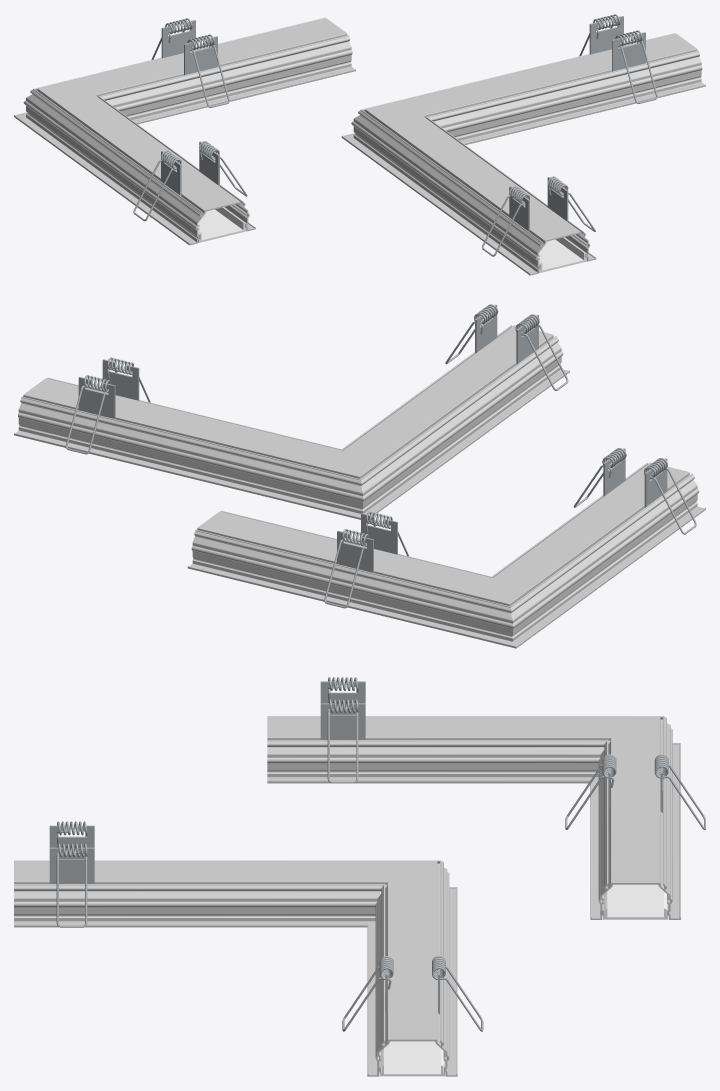
The model's file is Fit40StandardEmbutido-curva-direita-esquerda.glb.
3 views of the same model, one above another, from view 1: azimuth 30°, elevation 25°; view 2: azimuth 150°, elevation 25°; view 3: azimuth 270°, elevation 25° (orthographic). The views are drawn at different scales.
Visible parts, largest first — view 1: 3DGeom-21, 3DGeom-20, 3DGeom-2, 3DGeom-1, 3DGeom-13 (×4), 3DGeom-5 (×4), 3DGeom-14 (×3), 3DGeom-6 (×3), 3DGeom-17, 3DGeom-3; view 2: 3DGeom-21, 3DGeom-2, 3DGeom-20, 3DGeom-1, 3DGeom-13 (×4), 3DGeom-5 (×4), 3DGeom-6 (×3), 3DGeom-14 (×2); view 3: 3DGeom-20, 3DGeom-1, 3DGeom-21, 3DGeom-2, 3DGeom-6 (×3), 3DGeom-14 (×3), 3DGeom-22, 3DGeom-4, 3DGeom-5 (×2), 3DGeom-13 (×2).
Part boxes in pixels (x1=…): 3DGeom-21: x1=343, y1=33, x2=705, y2=144; 3DGeom-20: x1=341, y1=109, x2=596, y2=275; 3DGeom-2: x1=15, y1=17, x2=355, y2=124; 3DGeom-1: x1=14, y1=88, x2=255, y2=245; 3DGeom-13 (×4): x1=509, y1=16, x2=645, y2=231; 3DGeom-5 (×4): x1=161, y1=20, x2=219, y2=196; 3DGeom-14 (×3): x1=482, y1=30, x2=657, y2=256; 3DGeom-6 (×3): x1=133, y1=34, x2=247, y2=221; 3DGeom-17: x1=538, y1=237, x2=586, y2=272; 3DGeom-3: x1=197, y1=207, x2=246, y2=242; 3DGeom-21: x1=14, y1=377, x2=363, y2=519; 3DGeom-2: x1=187, y1=511, x2=516, y2=648; 3DGeom-20: x1=342, y1=325, x2=569, y2=515; 3DGeom-1: x1=491, y1=462, x2=705, y2=648; 3DGeom-13 (×4): x1=78, y1=304, x2=538, y2=419; 3DGeom-5 (×4): x1=337, y1=448, x2=667, y2=572; 3DGeom-6 (×3): x1=324, y1=448, x2=696, y2=608; 3DGeom-14 (×2): x1=65, y1=314, x2=568, y2=454; 3DGeom-20: x1=14, y1=860, x2=456, y2=927; 3DGeom-1: x1=267, y1=716, x2=679, y2=783; 3DGeom-21: x1=367, y1=860, x2=457, y2=1076; 3DGeom-2: x1=590, y1=716, x2=680, y2=919; 3DGeom-6 (×3): x1=327, y1=699, x2=705, y2=830; 3DGeom-14 (×3): x1=56, y1=843, x2=483, y2=1031; 3DGeom-22: x1=380, y1=1041, x2=445, y2=1076; 3DGeom-4: x1=603, y1=884, x2=668, y2=919; 3DGeom-5 (×2): x1=320, y1=681, x2=365, y2=739; 3DGeom-13 (×2): x1=49, y1=825, x2=94, y2=883.
Size of the model in its own units: 0.443 by 0.053 by 0.3898.
Materials: 3 (1 with a texture image).
